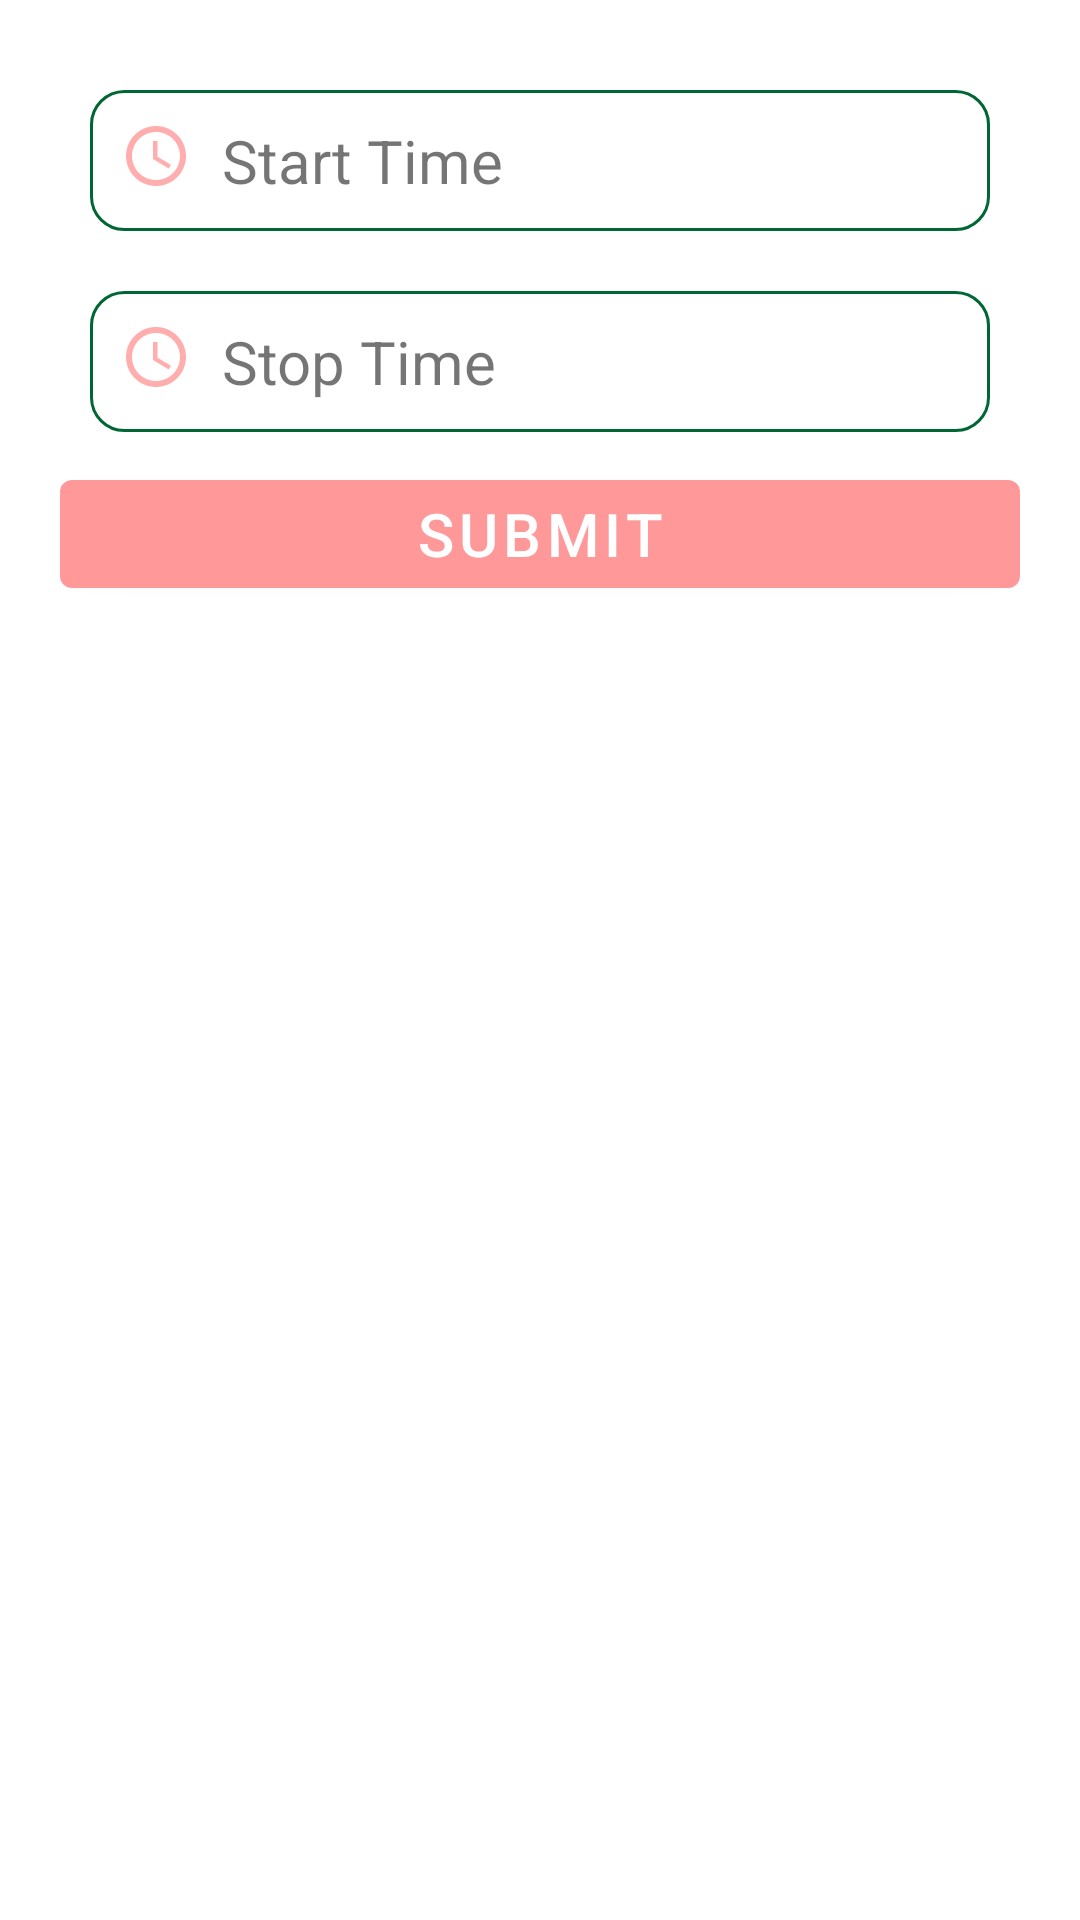

Icons on this 1080 x 1920 Android screen, each with its box as bbox=(x1, y1, x2, y2):
timeicon: bbox=(126, 126, 186, 186), bbox=(126, 327, 186, 387)
